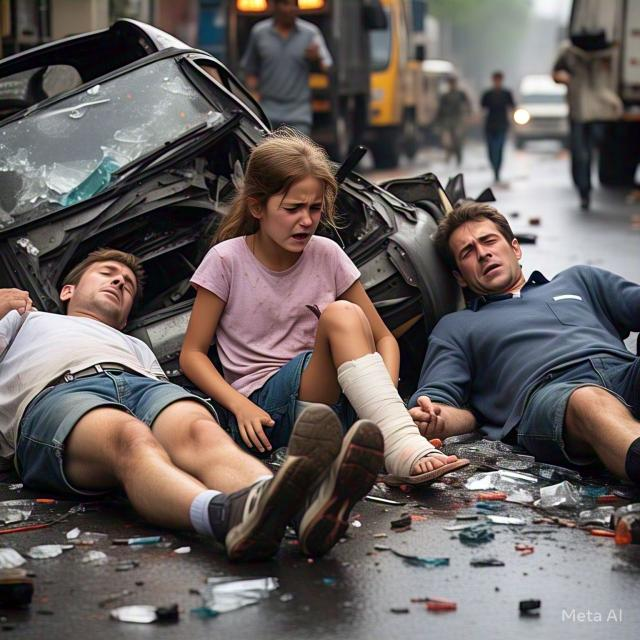injury: (0, 131, 476, 556), (513, 266, 640, 484), (238, 128, 336, 272), (436, 201, 526, 304), (431, 202, 523, 294), (60, 249, 141, 330)
no injury: (181, 128, 448, 480), (0, 248, 281, 556), (409, 204, 640, 484)
